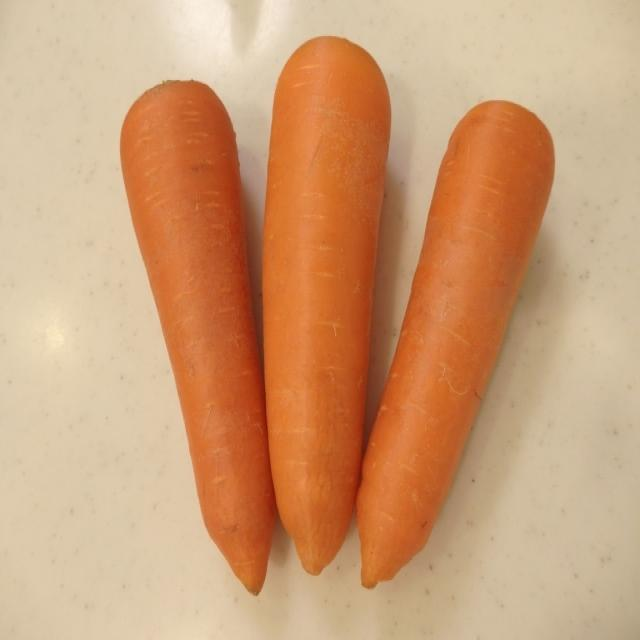Carrot: (357, 100, 557, 597), (112, 79, 280, 599), (265, 40, 391, 571)
